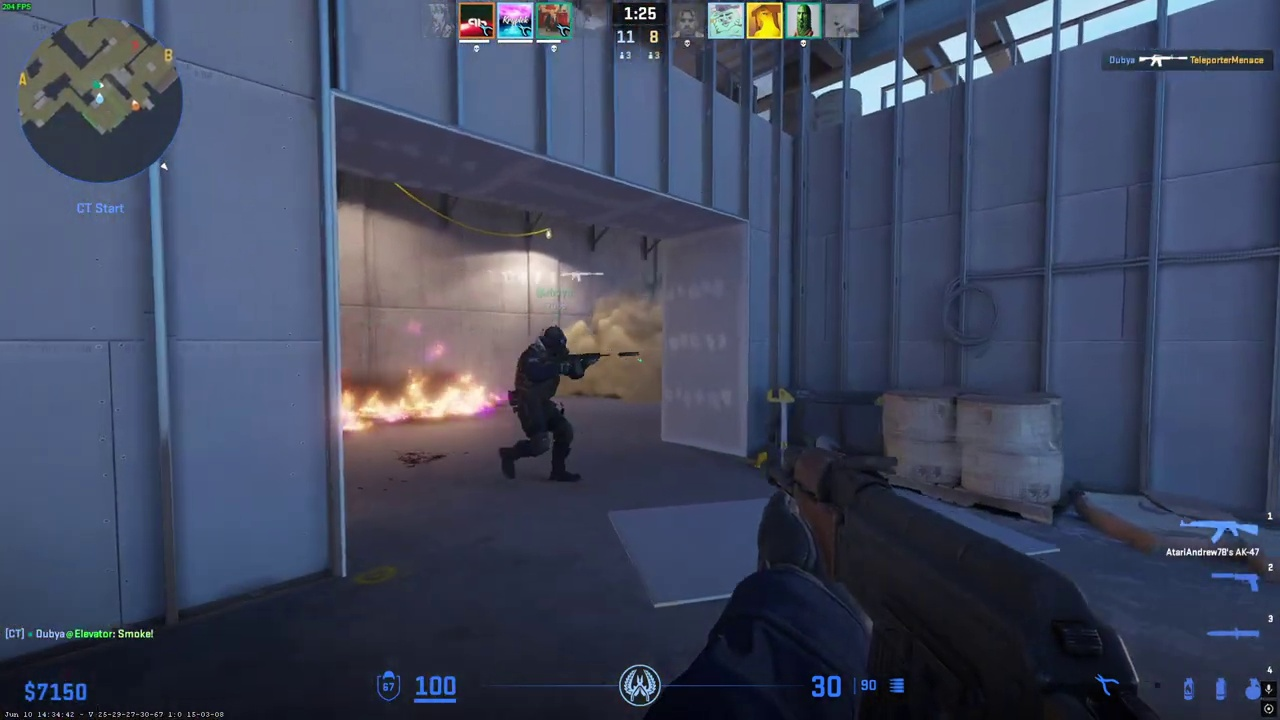CT: (503, 326, 584, 482)
